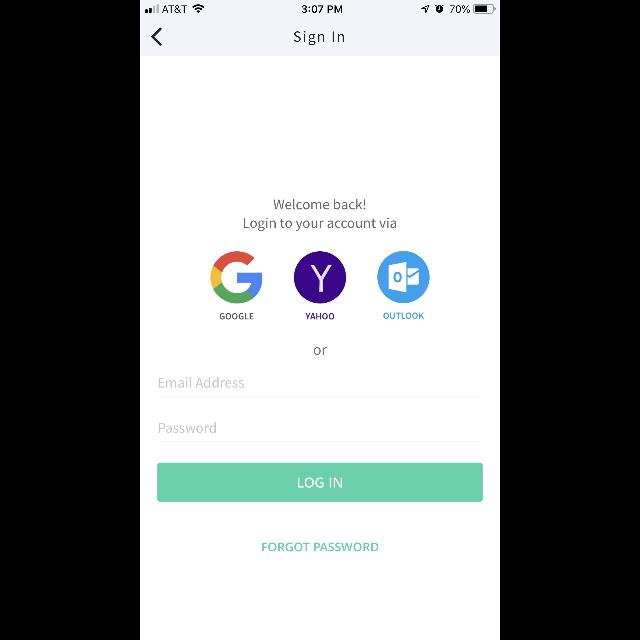icon: (211, 251, 263, 303), (152, 28, 162, 46)
image: (294, 252, 346, 304), (377, 251, 429, 303)
input: (158, 377, 482, 397), (158, 422, 482, 442)
text: (244, 198, 396, 232), (263, 542, 379, 552), (158, 377, 244, 388), (294, 30, 344, 46), (158, 422, 216, 433), (384, 312, 424, 320), (306, 312, 334, 320), (220, 314, 254, 320), (313, 347, 327, 355)
textbutton: (158, 462, 482, 502)
uppertaskbar: (140, 0, 500, 14)
